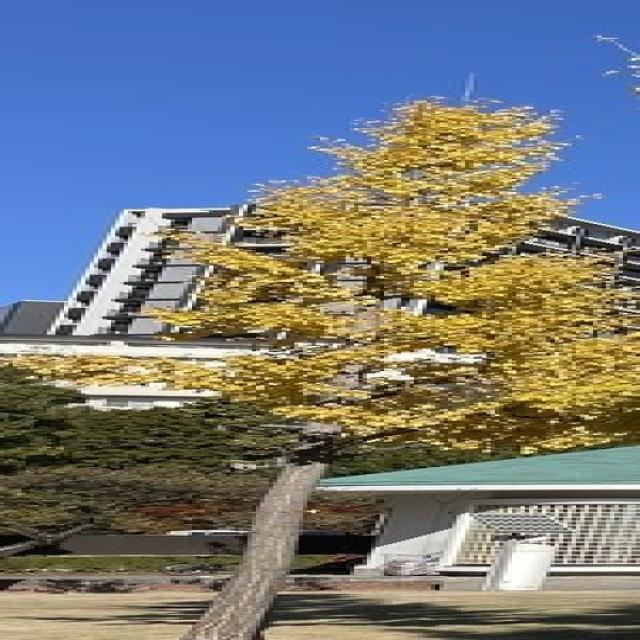ginkgo: (0, 90, 640, 640)
